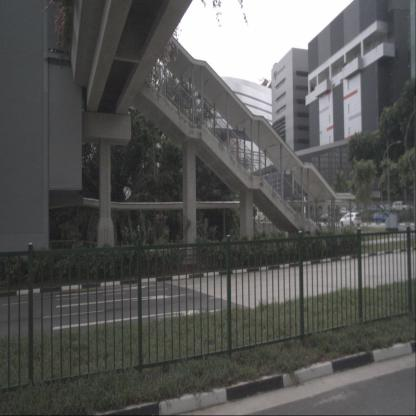vehicle-car: (338, 211, 362, 228), (391, 200, 410, 214), (372, 211, 390, 224), (319, 212, 335, 222), (339, 206, 351, 216)
